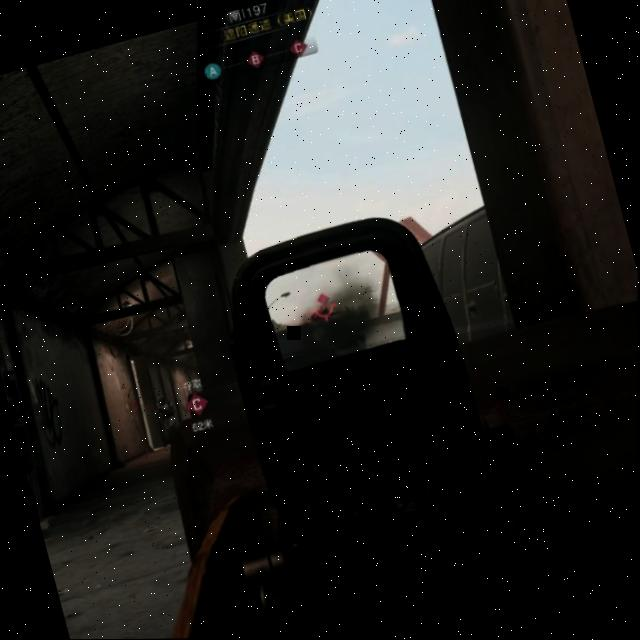MW2_body: (149, 392, 183, 440), (305, 291, 339, 321)
